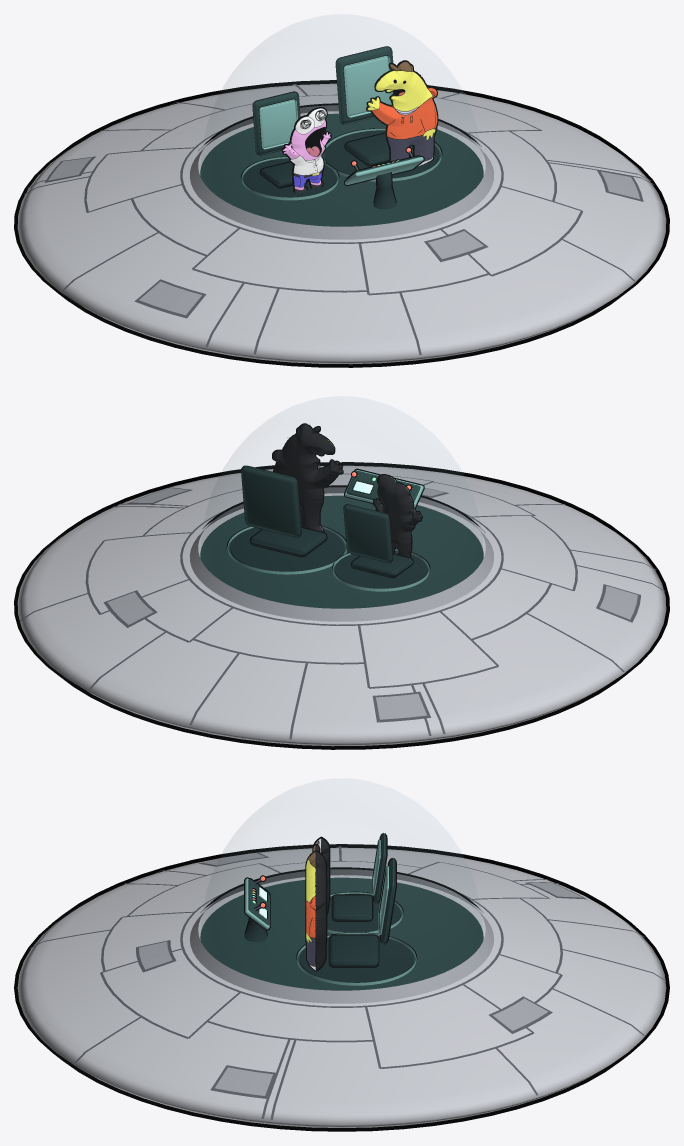
File: smilingfriends_ship.glb
3 views of the same model, one above another, from view 1: azimuth 30°, elevation 25°; view 2: azimuth 150°, elevation 25°; view 3: azimuth 270°, elevation 25° (orthographic).
Parts seen in each view (by area): view 1: SF_Ship_Hull, SF_Ship_Details, SF_Ship_DomeRing, SF_Charlie, SF_Cabin_Pod_Charlie_Back, SF_Pim, SF_Cabin_Pod_Pim_Back, SF_Cabin_Console, SF_Cabin_Pod_Pim_Floor, SF_Cabin_Pod_Charlie_Floor, SF_Cabin_Pod_Charlie_Cushion, SF_Cabin_Pod_Pim_Cushion (+1 smaller); view 2: SF_Ship_Hull, SF_Ship_Details, SF_Ship_DomeRing, SF_Charlie, SF_Cabin_Pod_Charlie_Back, SF_Cabin_Pod_Charlie_Floor, SF_Cabin_Pod_Pim_Back, SF_Pim, SF_Cabin_Pod_Pim_Floor, SF_Cabin_Pod_Charlie_Cushion, SF_Cabin_Console, SF_Cabin_Pod_Pim_Cushion (+1 smaller); view 3: SF_Ship_Hull, SF_Ship_Details, SF_Ship_DomeRing, SF_Charlie, SF_Cabin_Pod_Charlie_Floor, SF_Cabin_Pod_Charlie_Cushion, SF_Cabin_Console, SF_Cabin_Pod_Pim_Cushion, SF_Cabin_Pod_Charlie_Back, SF_Cabin_Pod_Pim_Floor, SF_Cabin_Pod_Pim_Back, SF_Cabin_Pod_Charlie_FloorRim.
Boxes of the visible parts, left/top/right/bottom form: SF_Ship_Hull: left=14, top=80, right=669, bottom=367; SF_Ship_Details: left=24, top=84, right=653, bottom=355; SF_Ship_DomeRing: left=189, top=103, right=494, bottom=239; SF_Charlie: left=366, top=60, right=438, bottom=166; SF_Cabin_Pod_Charlie_Back: left=335, top=46, right=393, bottom=124; SF_Pim: left=281, top=107, right=331, bottom=192; SF_Cabin_Pod_Pim_Back: left=252, top=91, right=300, bottom=155; SF_Cabin_Console: left=344, top=147, right=424, bottom=209; SF_Cabin_Pod_Pim_Floor: left=243, top=158, right=336, bottom=197; SF_Cabin_Pod_Charlie_Floor: left=324, top=130, right=439, bottom=178; SF_Cabin_Pod_Charlie_Cushion: left=344, top=132, right=413, bottom=166; SF_Cabin_Pod_Pim_Cushion: left=259, top=161, right=322, bottom=188; SF_Ship_Hull: left=14, top=462, right=669, bottom=749; SF_Ship_Details: left=20, top=465, right=664, bottom=739; SF_Ship_DomeRing: left=189, top=485, right=494, bottom=621; SF_Charlie: left=272, top=423, right=343, bottom=532; SF_Cabin_Pod_Charlie_Back: left=241, top=465, right=301, bottom=537; SF_Cabin_Pod_Charlie_Floor: left=230, top=527, right=344, bottom=571; SF_Cabin_Pod_Pim_Back: left=343, top=504, right=393, bottom=562; SF_Pim: left=372, top=474, right=422, bottom=557; SF_Cabin_Pod_Pim_Floor: left=334, top=550, right=427, bottom=588; SF_Cabin_Pod_Charlie_Cushion: left=249, top=527, right=327, bottom=557; SF_Cabin_Console: left=344, top=468, right=424, bottom=511; SF_Cabin_Pod_Pim_Cushion: left=350, top=553, right=413, bottom=578; SF_Ship_Hull: left=14, top=844, right=669, bottom=1131; SF_Ship_Details: left=30, top=846, right=665, bottom=1119; SF_Ship_DomeRing: left=190, top=867, right=493, bottom=1003; SF_Charlie: left=305, top=843, right=327, bottom=971; SF_Cabin_Pod_Charlie_Floor: left=299, top=936, right=413, bottom=982; SF_Cabin_Pod_Charlie_Cushion: left=328, top=934, right=379, bottom=967; SF_Cabin_Console: left=244, top=875, right=270, bottom=942; SF_Cabin_Pod_Pim_Cushion: left=331, top=894, right=373, bottom=921; SF_Cabin_Pod_Charlie_Back: left=378, top=858, right=396, bottom=944; SF_Cabin_Pod_Pim_Floor: left=327, top=893, right=400, bottom=932; SF_Cabin_Pod_Pim_Back: left=372, top=833, right=387, bottom=903; SF_Cabin_Pod_Charlie_FloorRim: left=296, top=932, right=417, bottom=985.
Bounding box in the file's own units: 6.25 × 2.49 × 6.25.
Materials: 19 (2 with a texture image).
